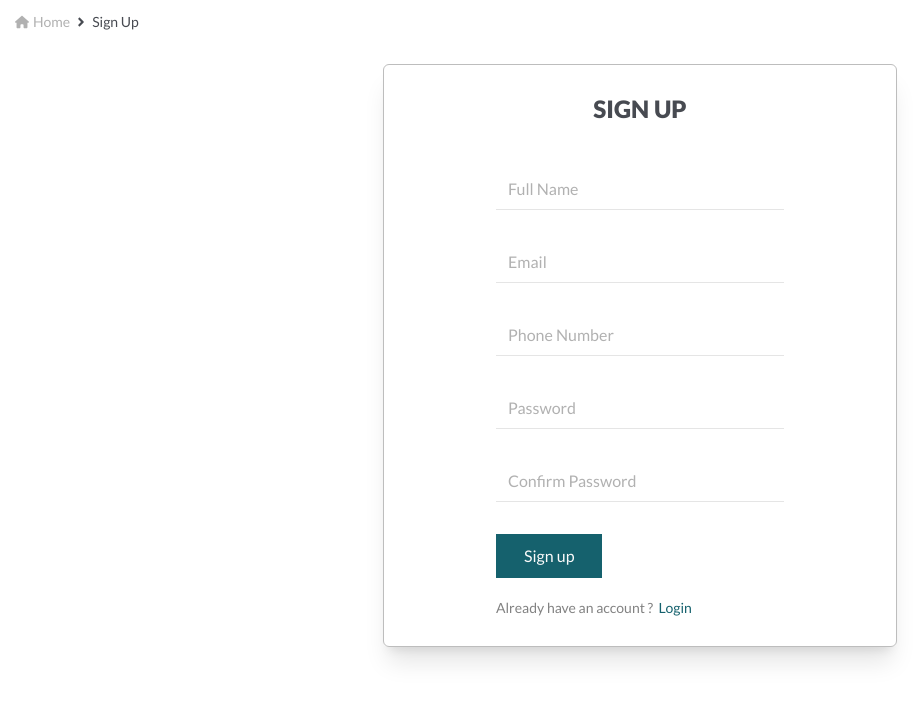
Test case: Register Component › shows error message when fields are empty
Click the button at point(549, 556), box [496,534,602,578]
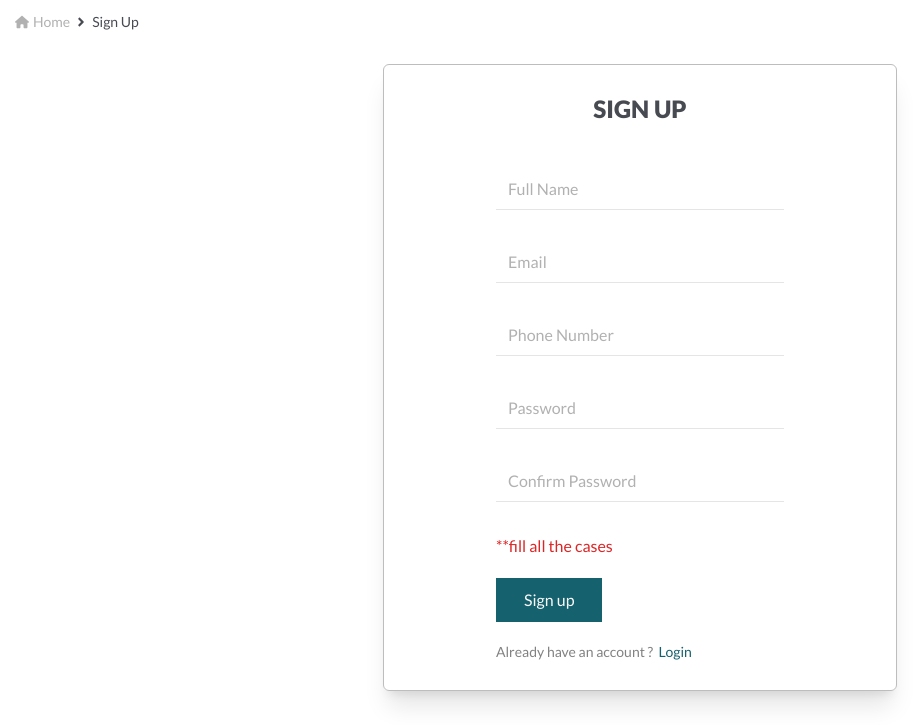
Check: the text "**fill all the cases" is shown, box [496,534,613,558]
